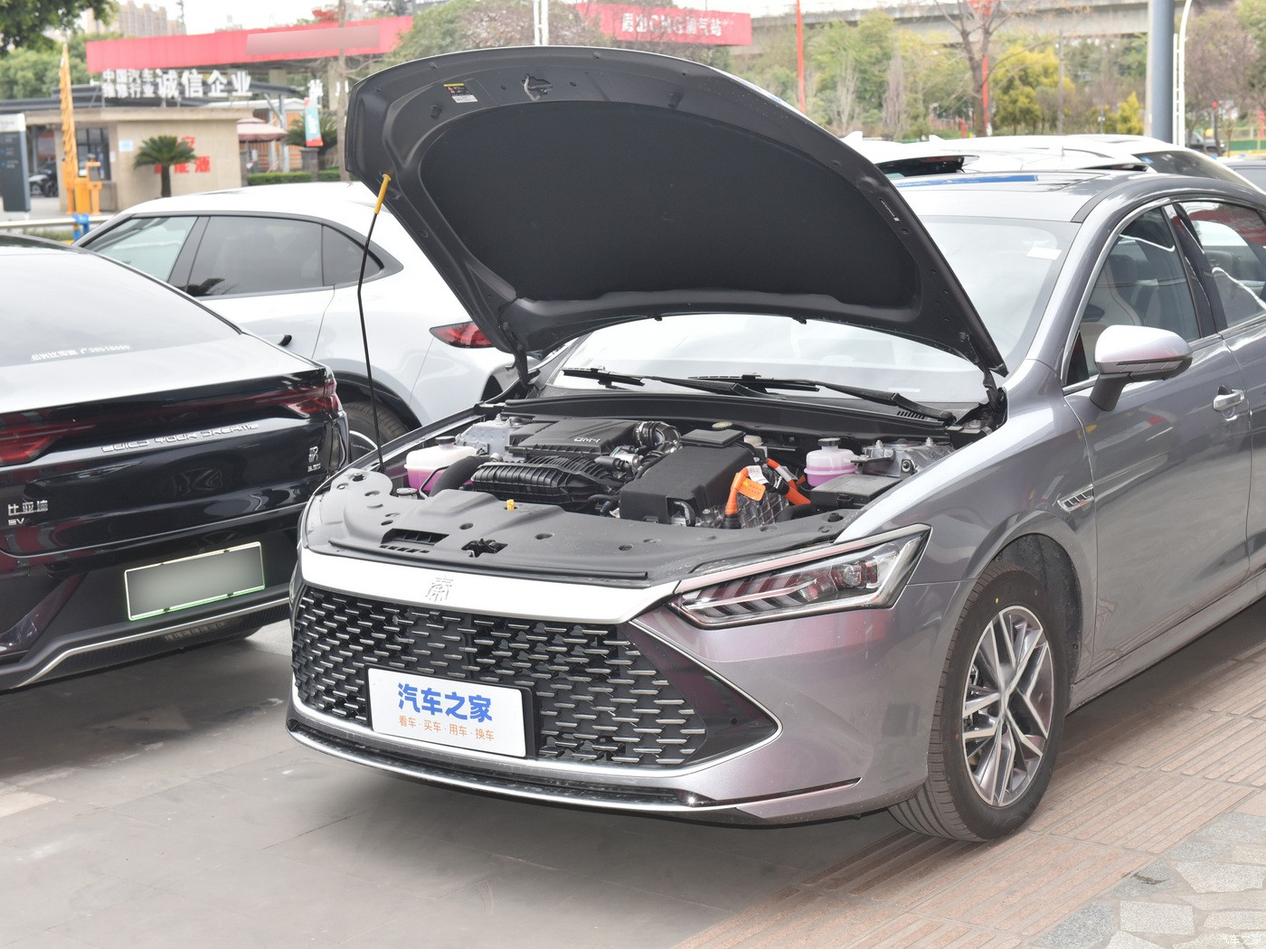BYD Qin: (426, 576, 453, 600)
